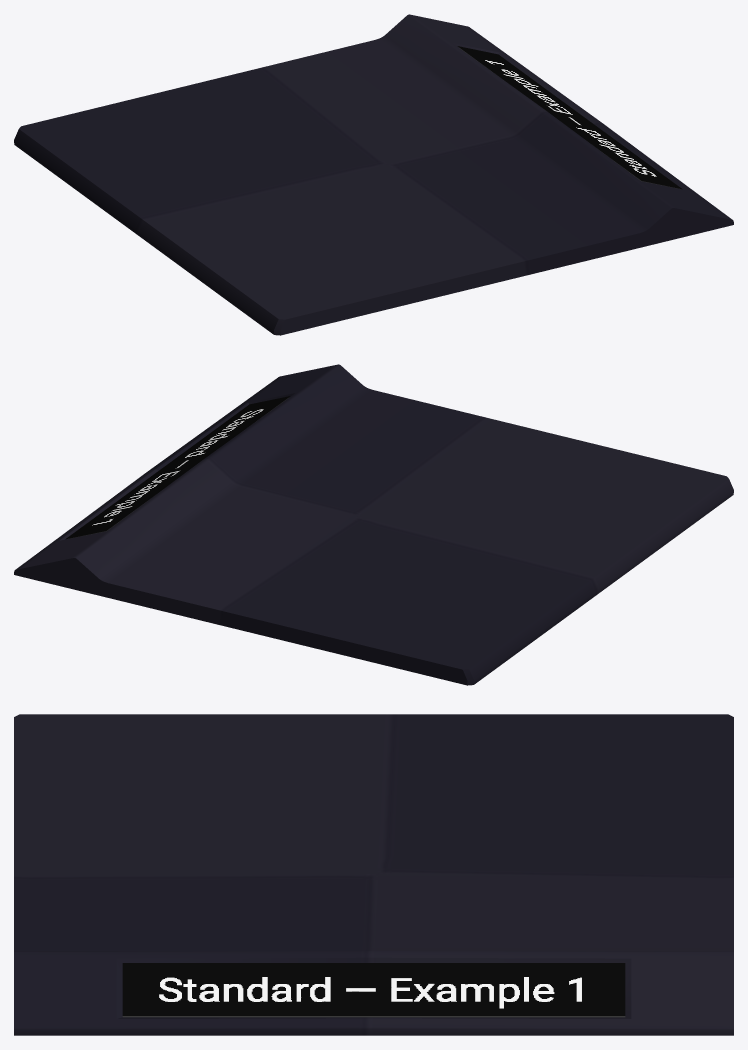
Rendered from stand.fbx.
3 renders of one model, top to bottom at view 1: azimuth 30°, elevation 25°; view 2: azimuth 150°, elevation 25°; view 3: azimuth 270°, elevation 25°, orthographic. The views are drawn at different scales.
Parts seen in each view (by area): view 1: Pod_00, Text_plane; view 2: Pod_00, Text_plane; view 3: Pod_00, Text_plane.
Boxes of the visible parts, box(x1,y1,x2,y2) form: Pod_00: box(14, 14, 733, 335); Text_plane: box(457, 46, 682, 189); Pod_00: box(14, 364, 733, 685); Text_plane: box(65, 396, 290, 539); Pod_00: box(14, 714, 733, 1035); Text_plane: box(122, 963, 625, 1015).
Size of the model in its own units: 200 by 13.65 by 200.
Materials: 3 (2 with a texture image).
